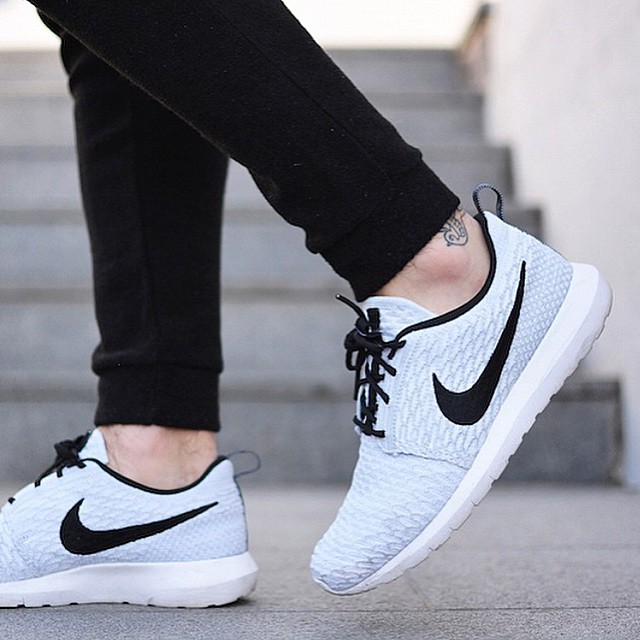sneaker: (281, 166, 628, 629), (1, 382, 280, 629)
